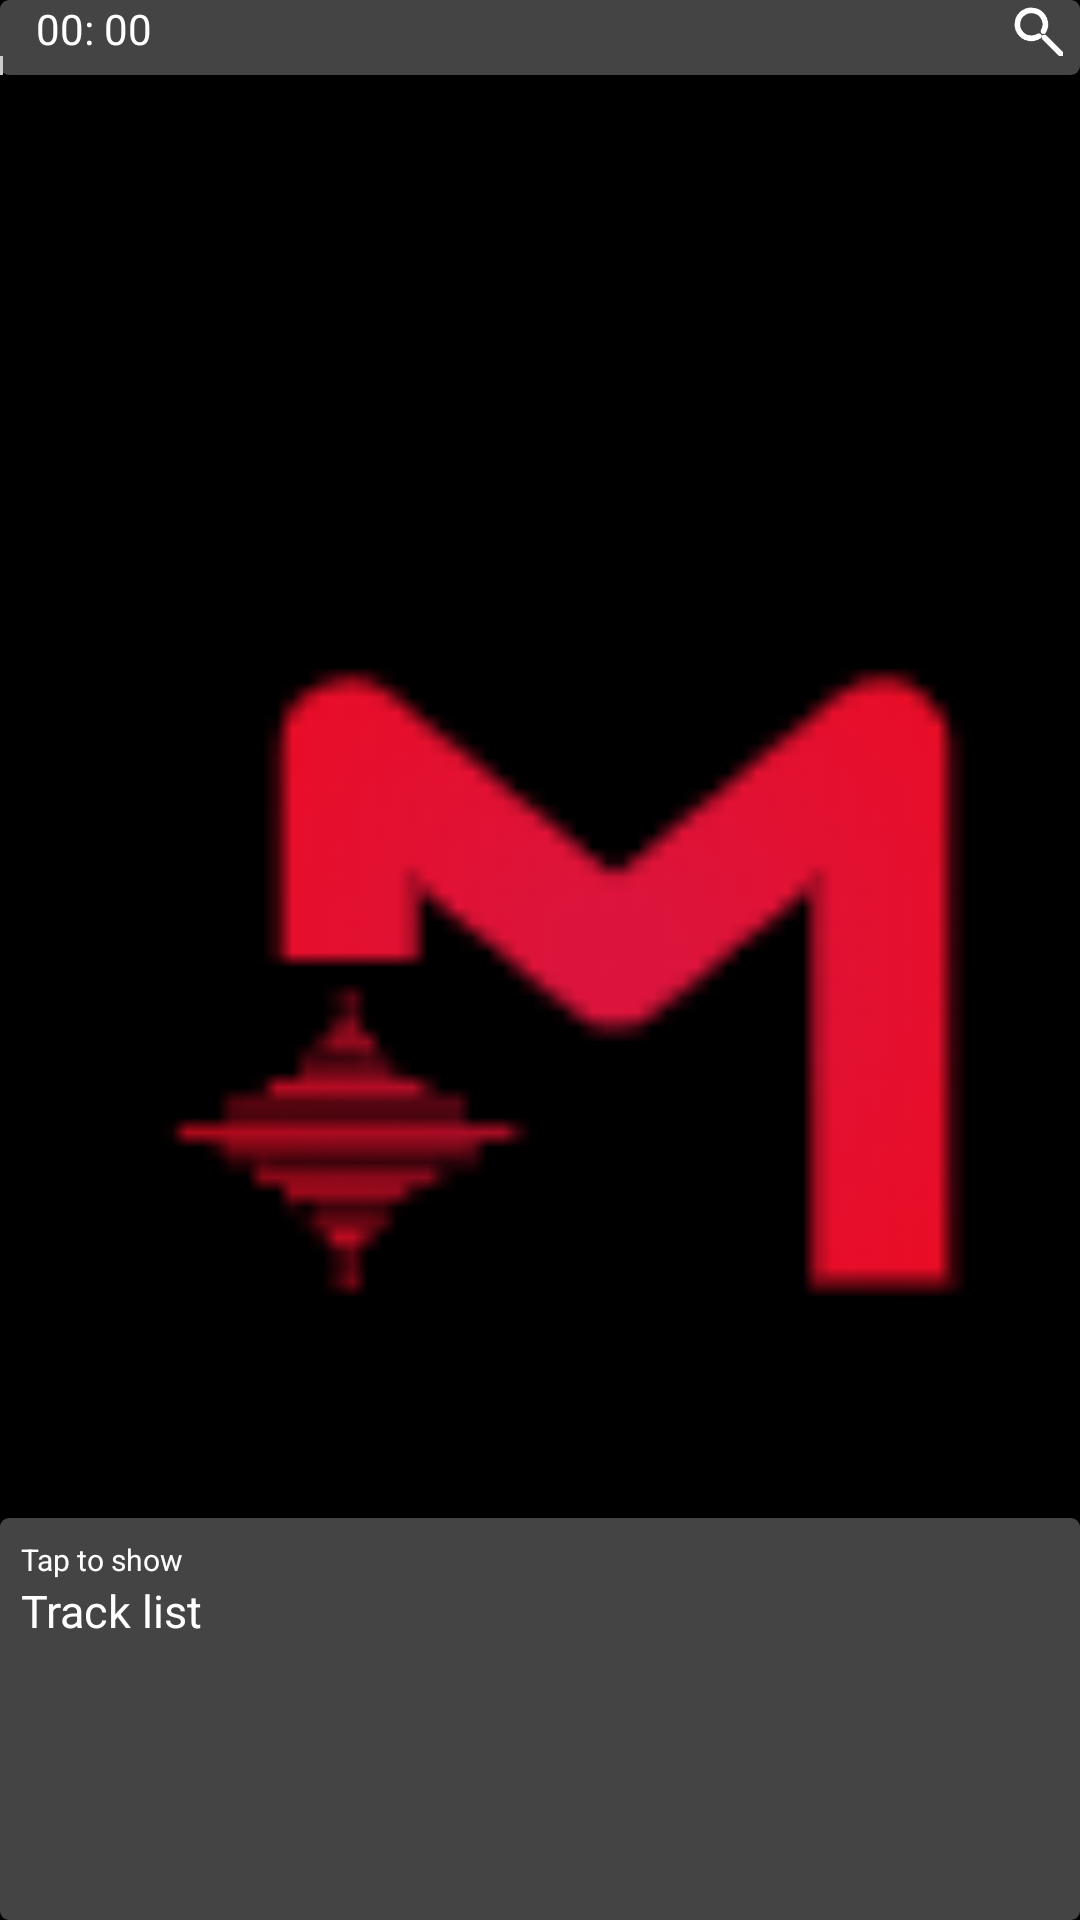

Where icons sit on this 1080 × 1920 app screen, as (x1, y1, x2, y2):
search: (1014, 0, 1080, 56)
